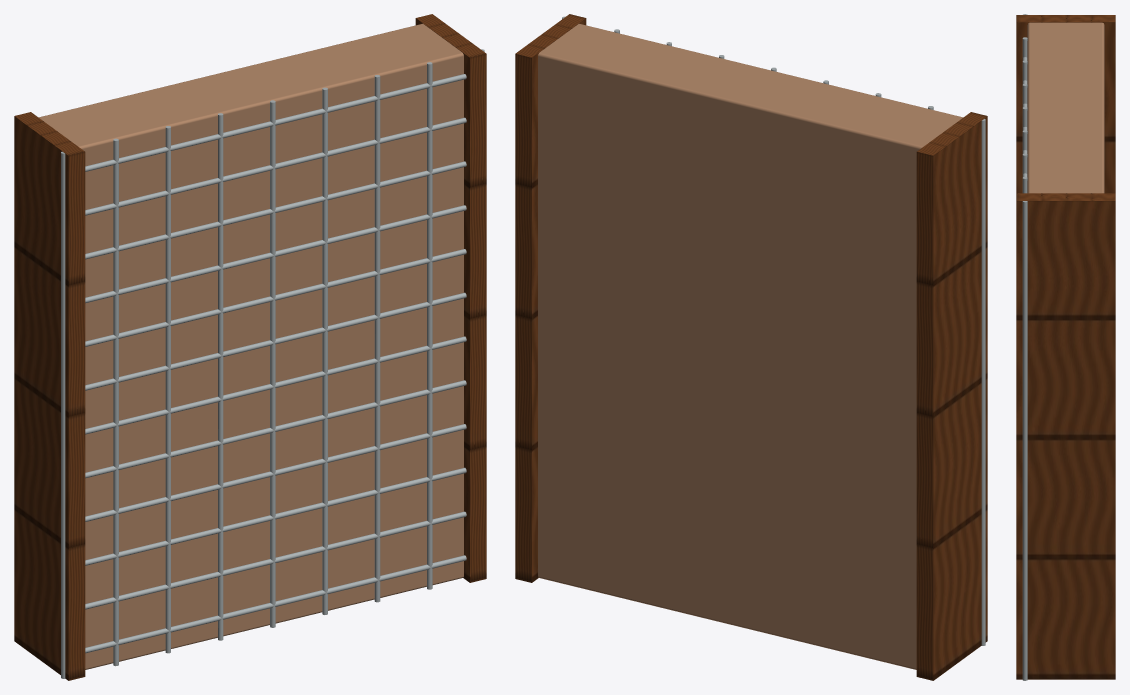
The model's file is fortified-compound-expansion-earth-filled-wall-8eea546f__27083.glb.
3 views of the same model, side by side, from view 1: azimuth 30°, elevation 25°; view 2: azimuth 150°, elevation 25°; view 3: azimuth 270°, elevation 25° (orthographic). The views are drawn at different scales.
Visible parts, largest first — view 1: earth-filled-wall; view 2: earth-filled-wall; view 3: earth-filled-wall.
Boxes of the visible parts, left/top/right/bottom form: earth-filled-wall: left=14, top=14, right=486, bottom=680; earth-filled-wall: left=515, top=14, right=987, bottom=680; earth-filled-wall: left=1016, top=14, right=1115, bottom=680.
Size of the model in its own units: 2.02 by 2.4 by 0.45.
3 materials, 1 textured.
